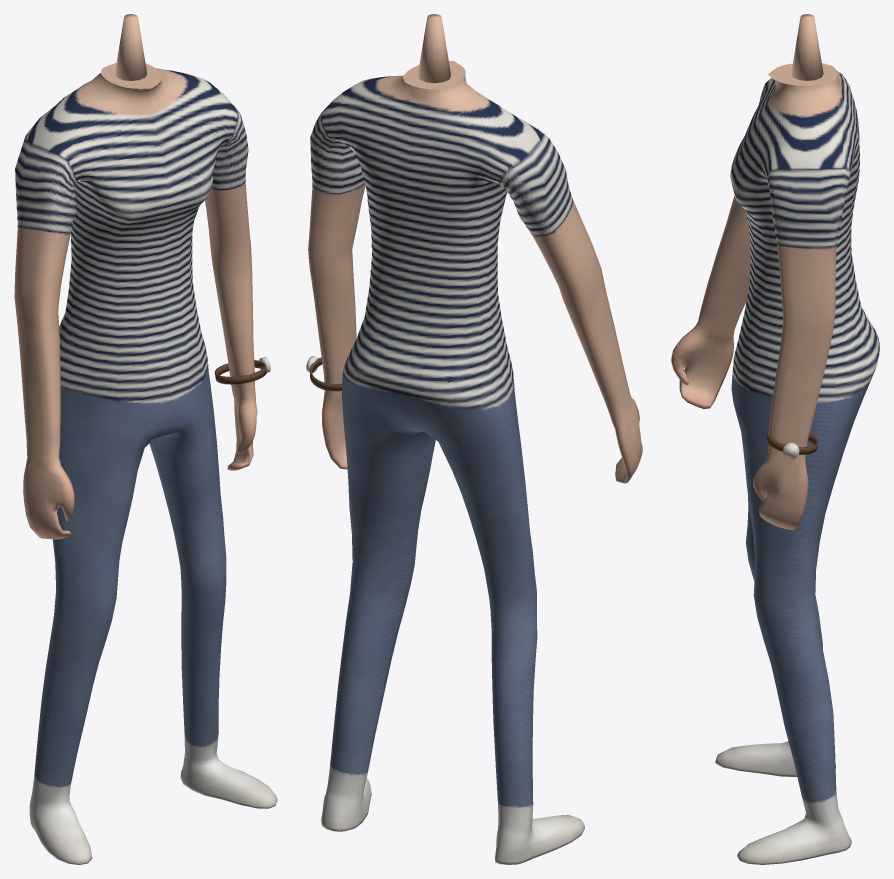
The model's file is PH_NPC__StudentWoman_Body.fbx.
3 renders of one model, left to right at view 1: azimuth 30°, elevation 25°; view 2: azimuth 150°, elevation 25°; view 3: azimuth 270°, elevation 25°, orthographic. The views are drawn at different scales.
Parts seen in each view (by area): view 1: PH_NPC__StudentWoman_Body; view 2: PH_NPC__StudentWoman_Body; view 3: PH_NPC__StudentWoman_Body.
Boxes of the visible parts, bbox=[...] form: PH_NPC__StudentWoman_Body: bbox=[14, 14, 277, 864]; PH_NPC__StudentWoman_Body: bbox=[306, 14, 642, 864]; PH_NPC__StudentWoman_Body: bbox=[671, 14, 879, 864].
Bounding box in the file's own units: 0.5763 × 1.58 × 0.377.
